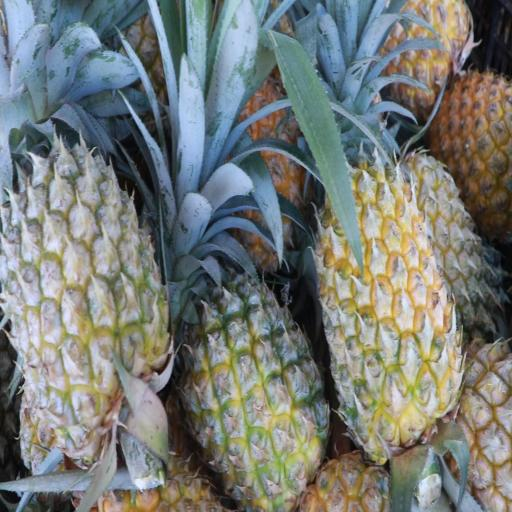------------------------------: (10, 152, 164, 442)
Pineapple - v8 v1: (320, 164, 458, 452), (192, 278, 327, 505), (435, 77, 512, 217), (381, 0, 470, 105)
